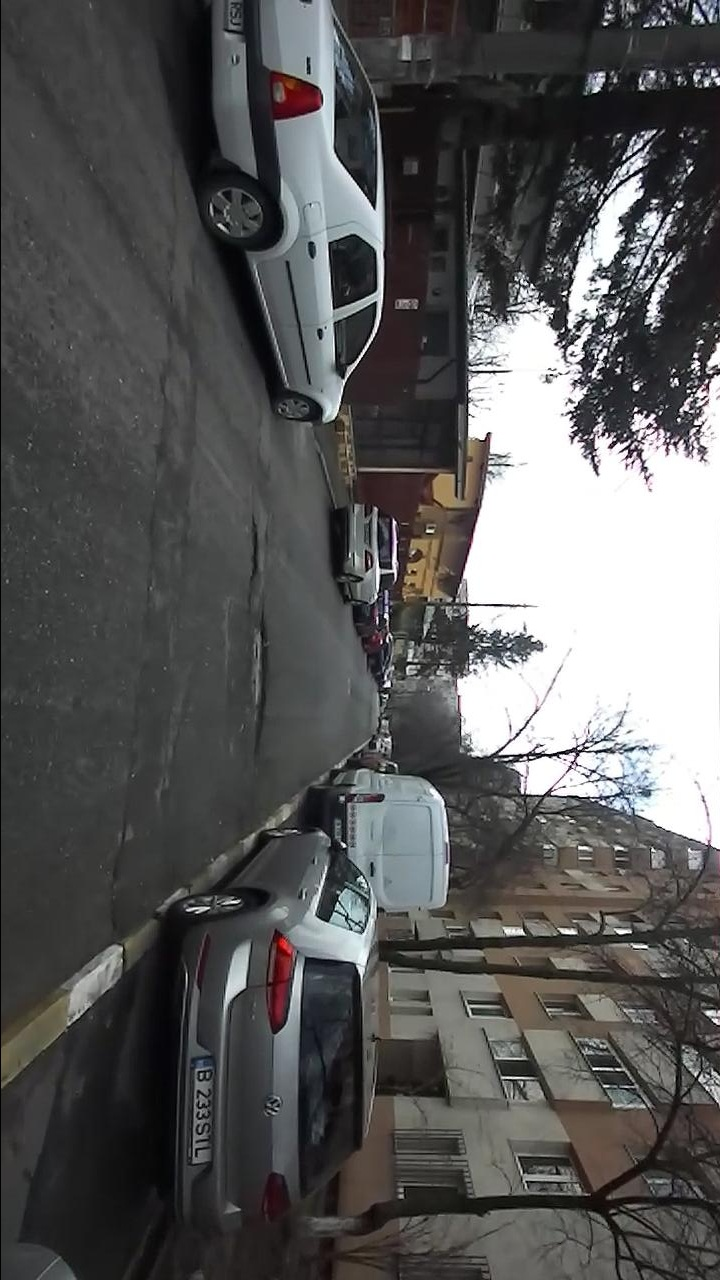pothole: (243, 613, 275, 770), (104, 815, 132, 926), (241, 510, 264, 603)
